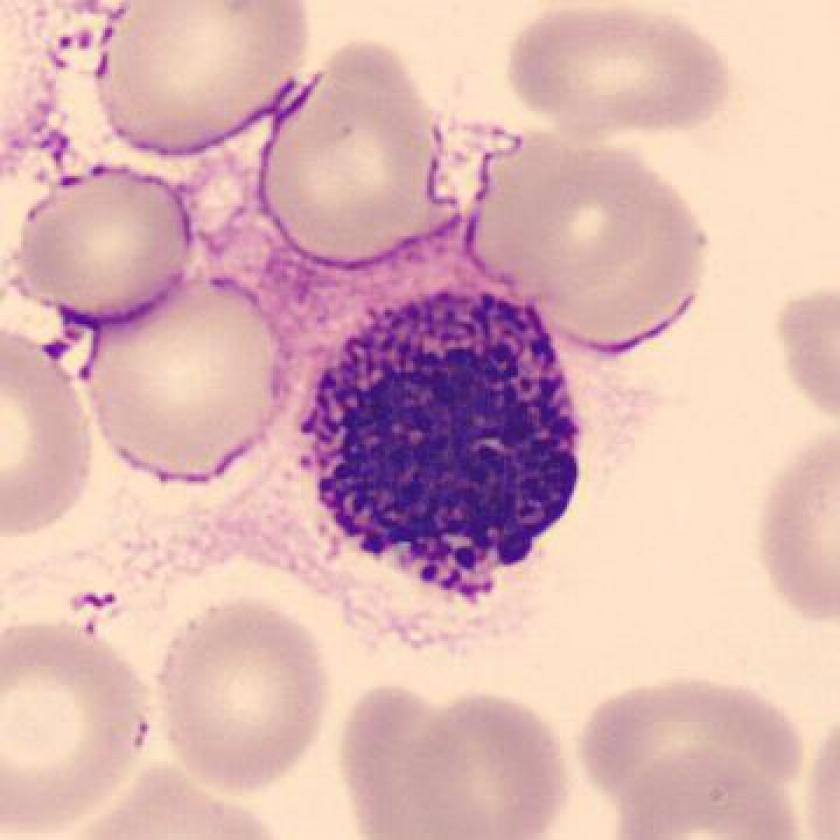basophil: (297, 274, 594, 596)
